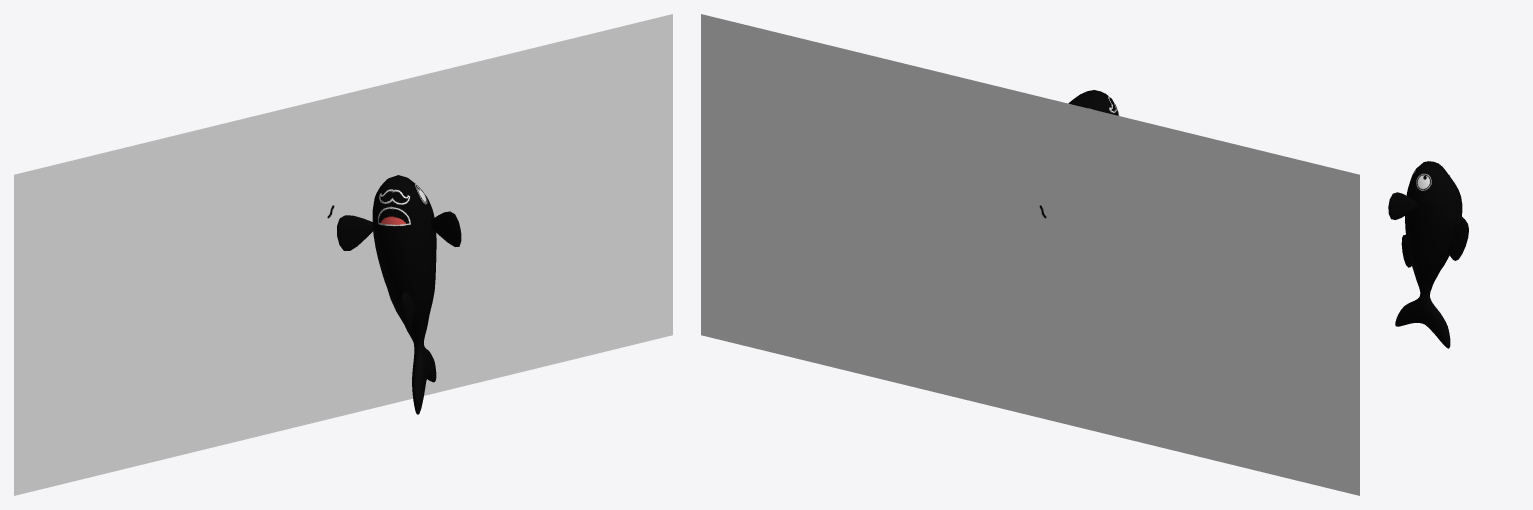
Rendered from pahis2.fbx.
3 renders of one model, left to right at view 1: azimuth 30°, elevation 25°; view 2: azimuth 150°, elevation 25°; view 3: azimuth 270°, elevation 25°, orthographic. The views are drawn at different scales.
Visible parts, largest first — view 1: root (×2); view 2: root (×2); view 3: root.
Boxes of the visible parts, <box> form: root (×2): <box>14,14,672,495</box>; root (×2): <box>701,14,1359,495</box>; root: <box>1388,161,1468,348</box>.
Bounding box in the file's own units: 1.35 × 0.629 × 0.3083.
Materials: 2 (2 with a texture image).
